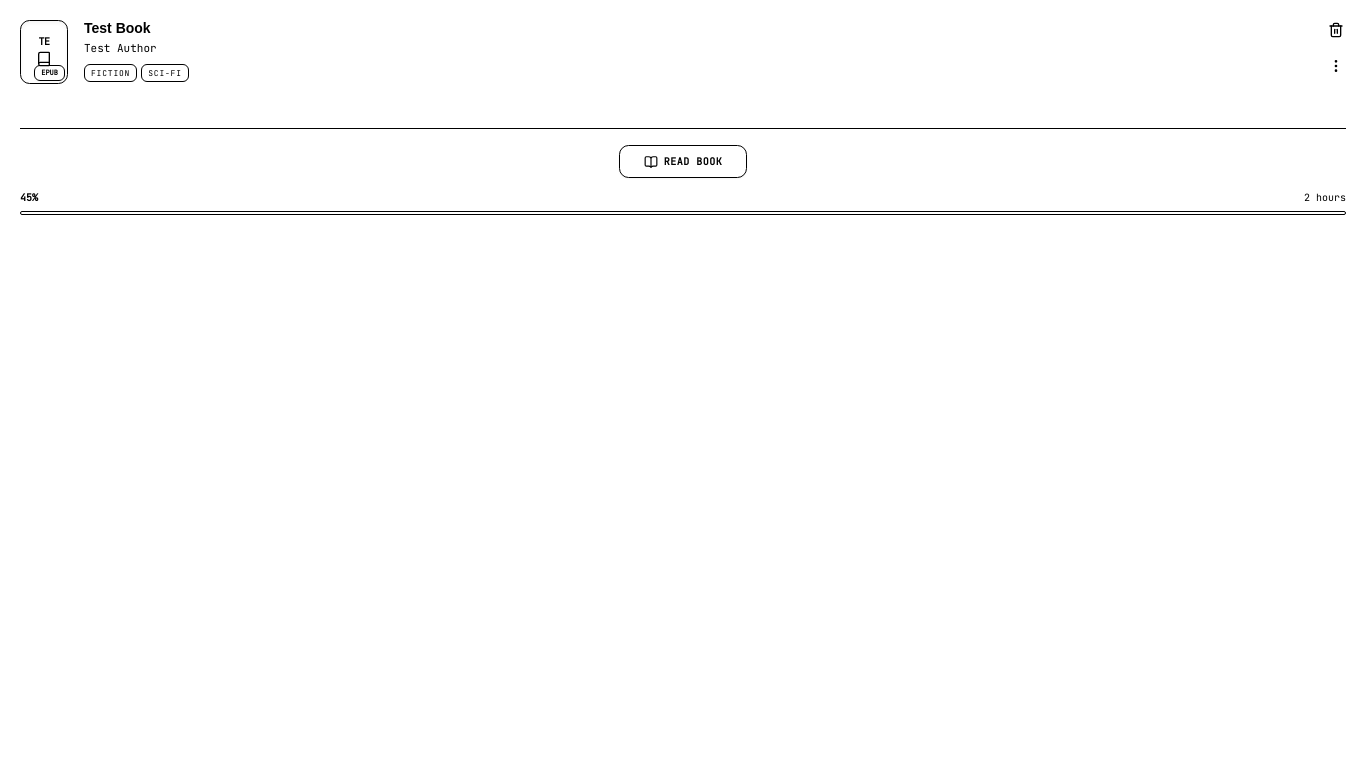
Test: BookCard › shows delete confirmation on trash click
Click the button titled "Delete book".
click(1336, 30)  # box [1322, 16, 1350, 44]
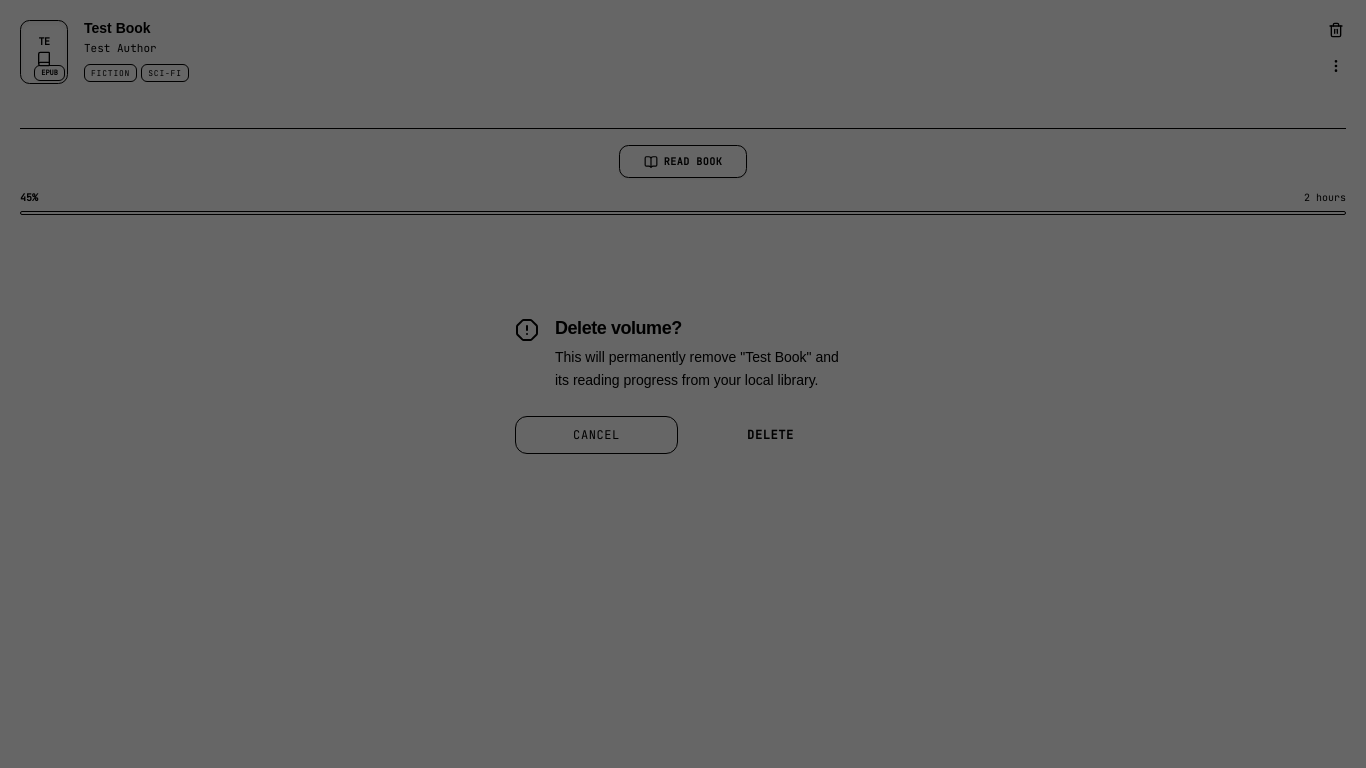
Check: the heading "Delete volume?" is shown, box [555, 318, 682, 338]
